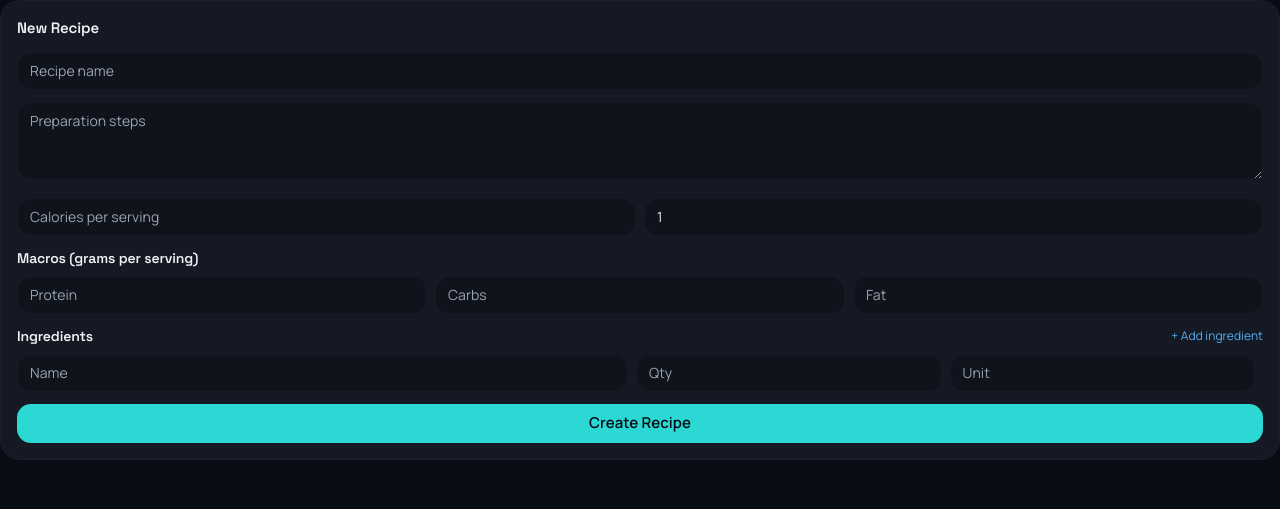
Test: RecipeForm › shows error when calories is invalid
The image size is (1280, 509).
Type "Test" into the field labelled "Recipe name".
click(640, 70); type("Test")  # box [17,52,1263,90]
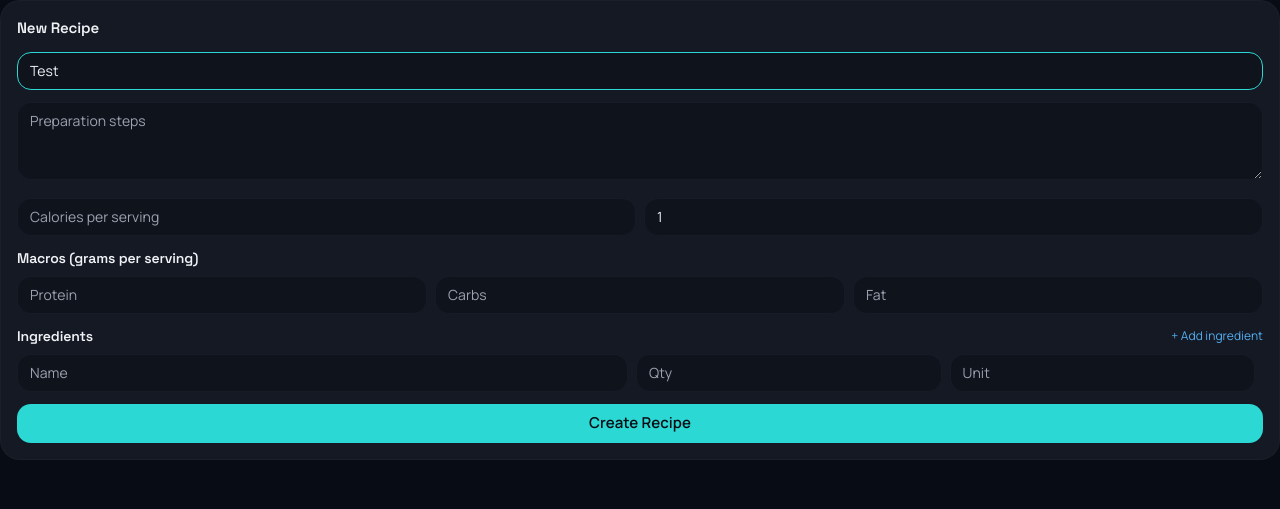
Type "Steps" into the text box labelled "Preparation steps".
click(640, 140); type("Steps")  # box [17,102,1263,180]
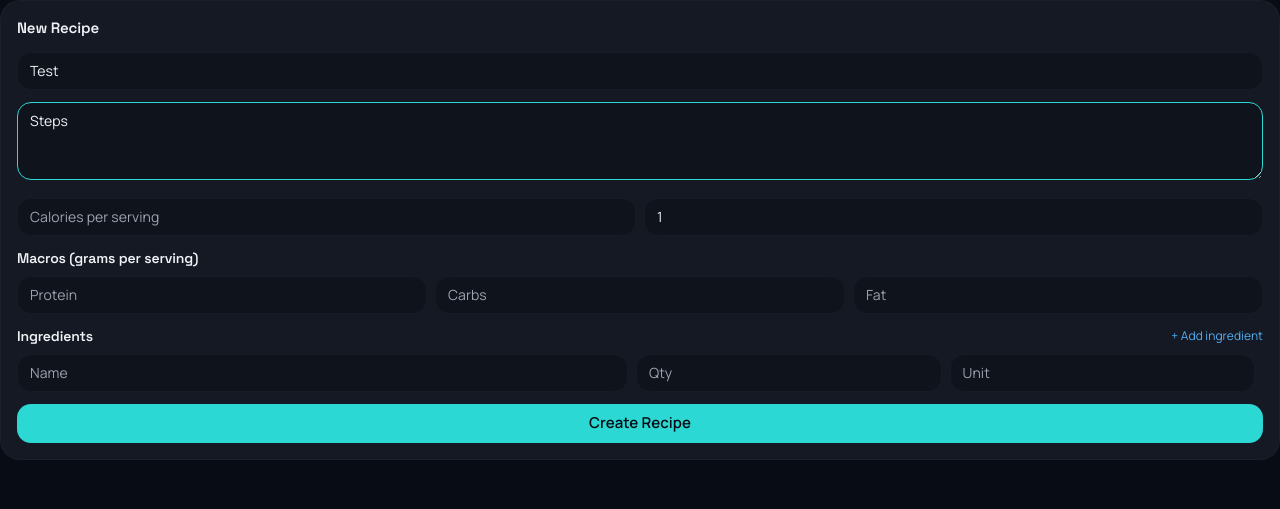
Click the button "Create Recipe".
click(640, 423)  # box [17,404,1263,442]
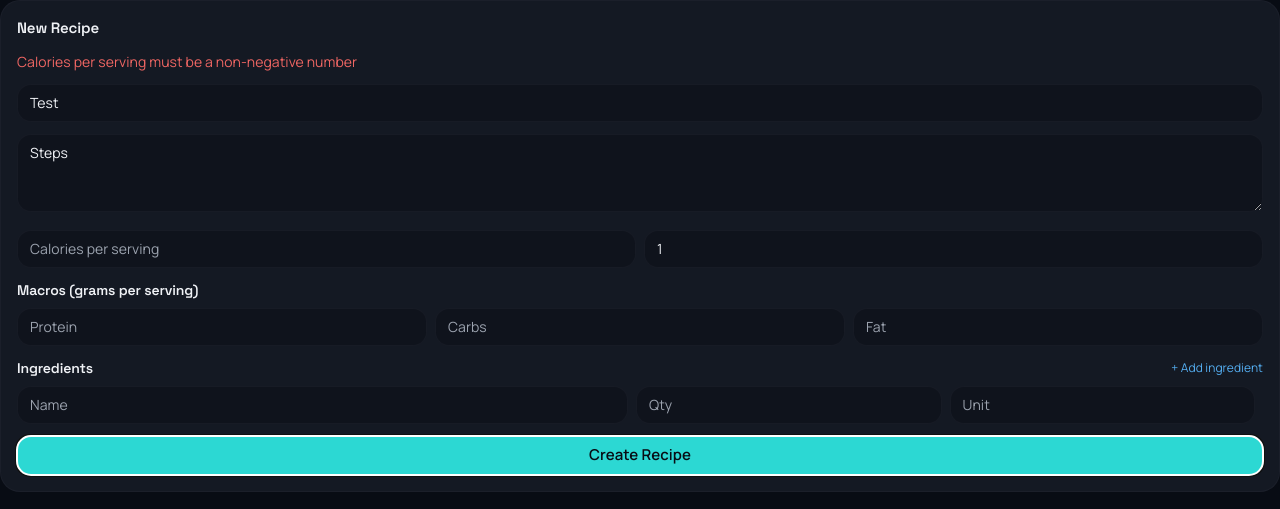
Now the text "Calories per serving must be a non-negative number" is shown, box [17,52,357,70]
